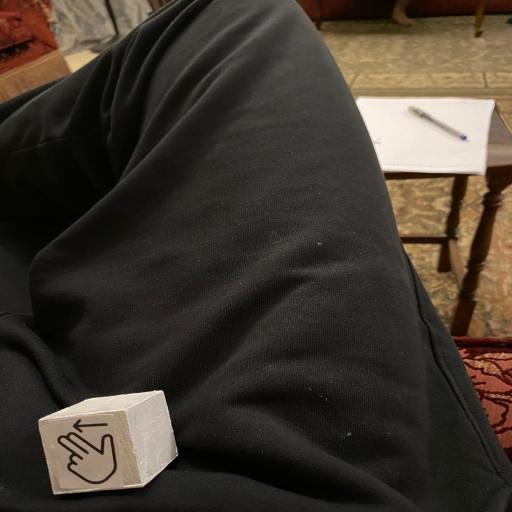LeftSwipe: (38, 389, 176, 493)
